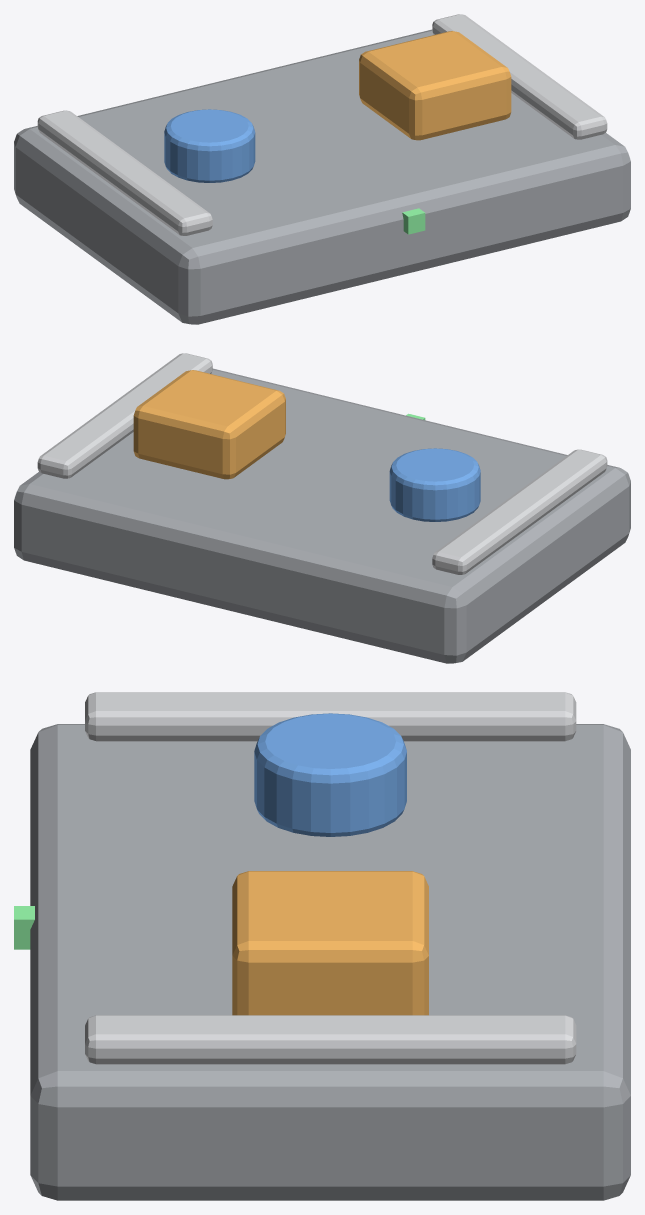
The model's file is gadget_steadyhand.fbx.
3 renders of one model, top to bottom at view 1: azimuth 30°, elevation 25°; view 2: azimuth 150°, elevation 25°; view 3: azimuth 270°, elevation 25°, orthographic. The views are drawn at different scales.
Parts seen in each view (by area): view 1: gadget_steadyhand; view 2: gadget_steadyhand; view 3: gadget_steadyhand.
Boxes of the visible parts, bbox=[...] form: gadget_steadyhand: bbox=[14, 14, 630, 324]; gadget_steadyhand: bbox=[14, 353, 630, 663]; gadget_steadyhand: bbox=[14, 692, 630, 1200].
Bounding box in the file's own units: 0.16 × 0.043 × 0.113.
